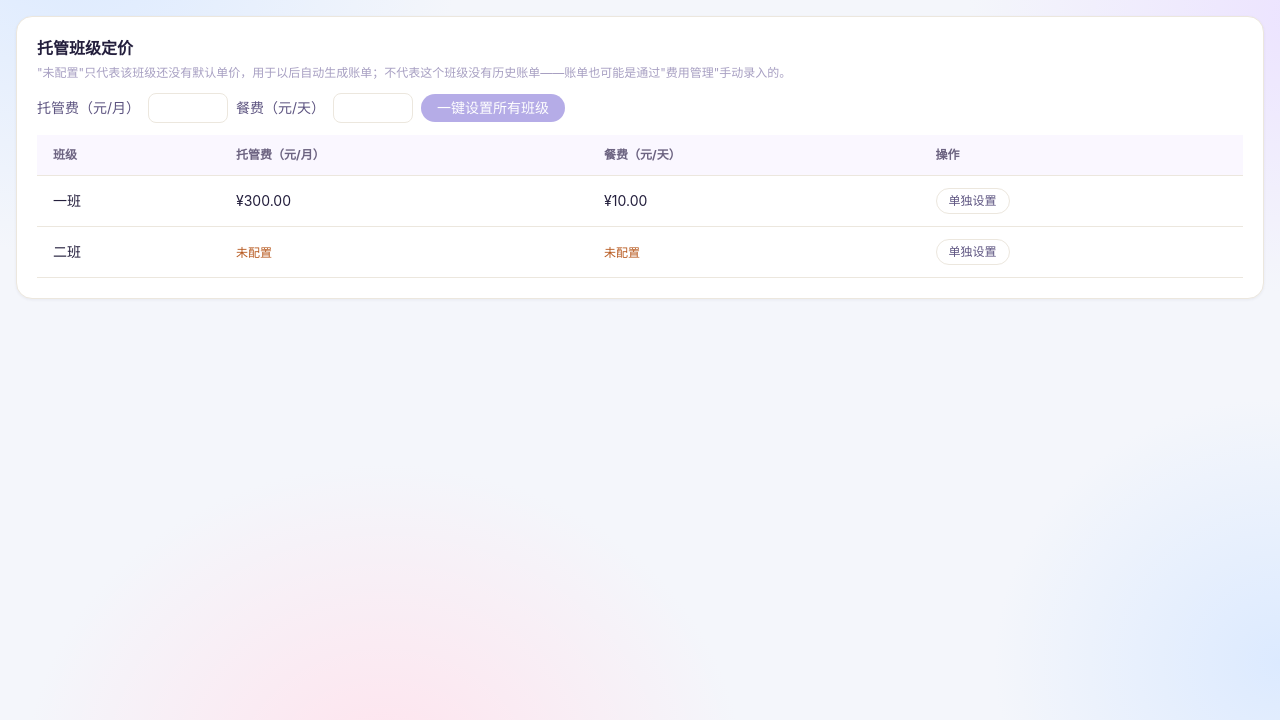
Test case: AdminPricingModule › edits the billing rate for a single class
Expected: the text "二班" is shown, [37,226,220,278]
Click the button "单独设置" in the row of "二班": (973,252) [936,239,1010,265]
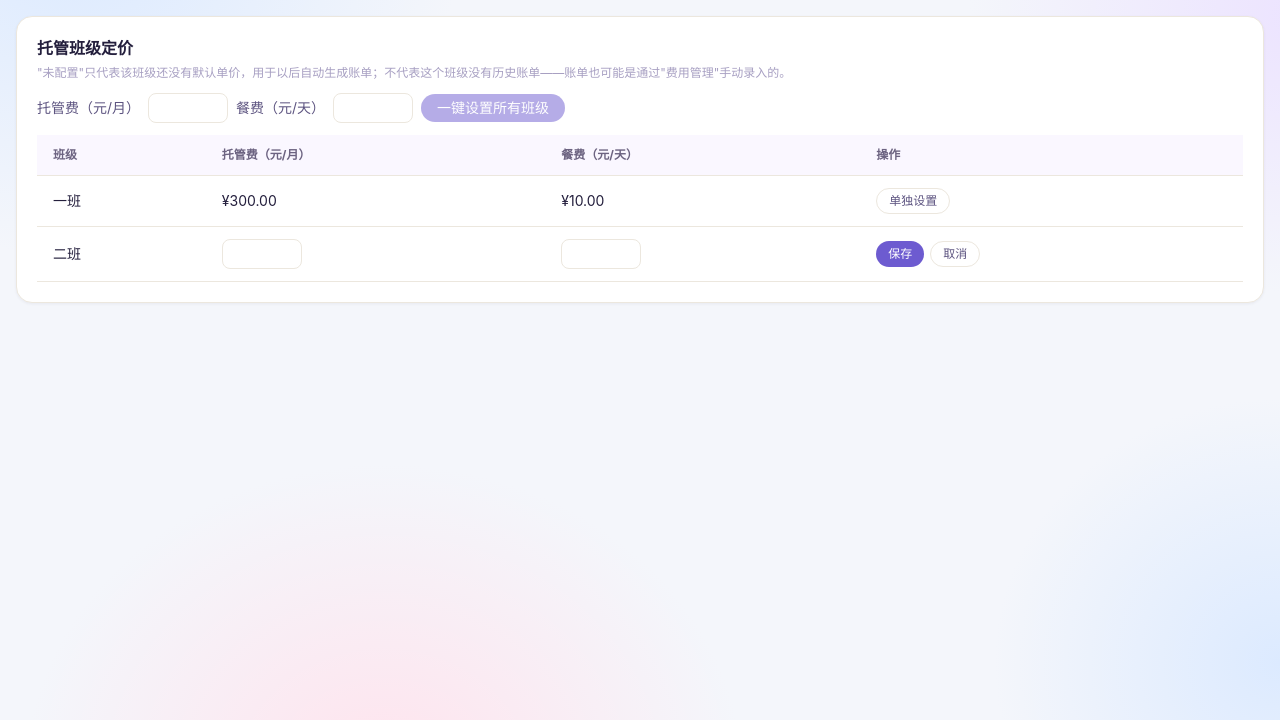
In the field named "二班托管费": (262,254) [222,239,302,269], type "250"
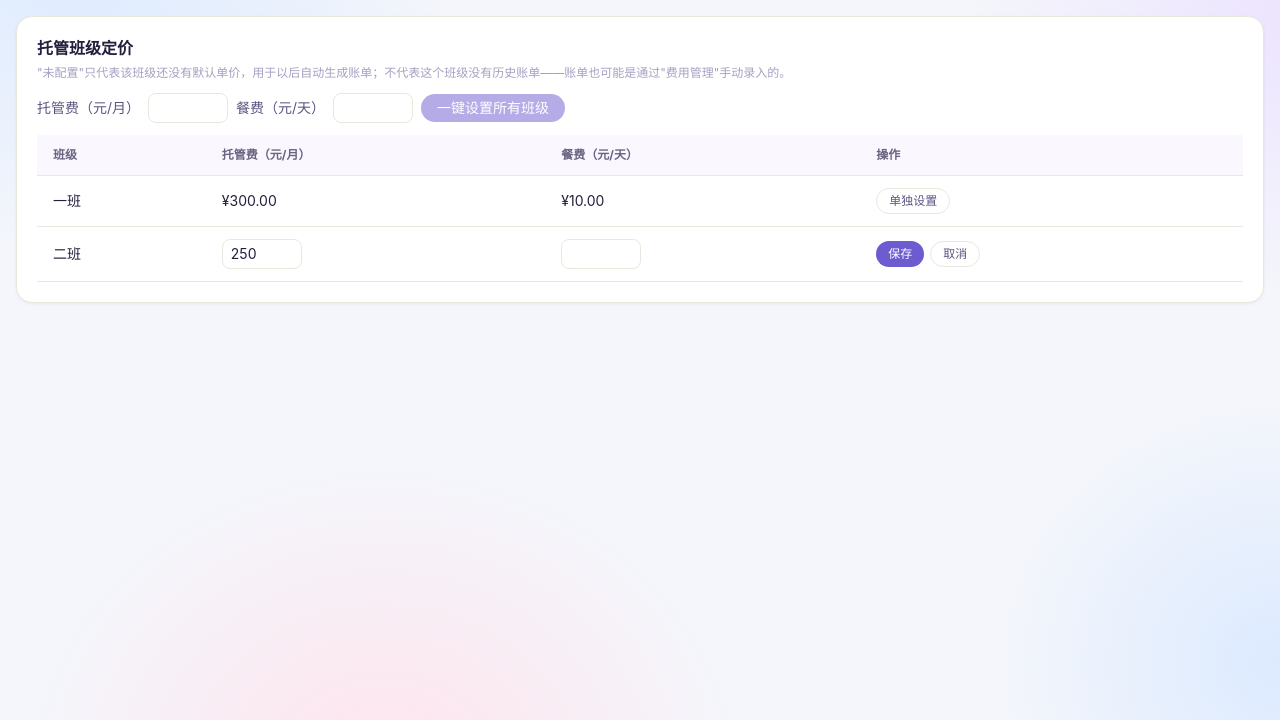
In the field named "二班餐费": (601,254) [561,239,641,269], type "8"
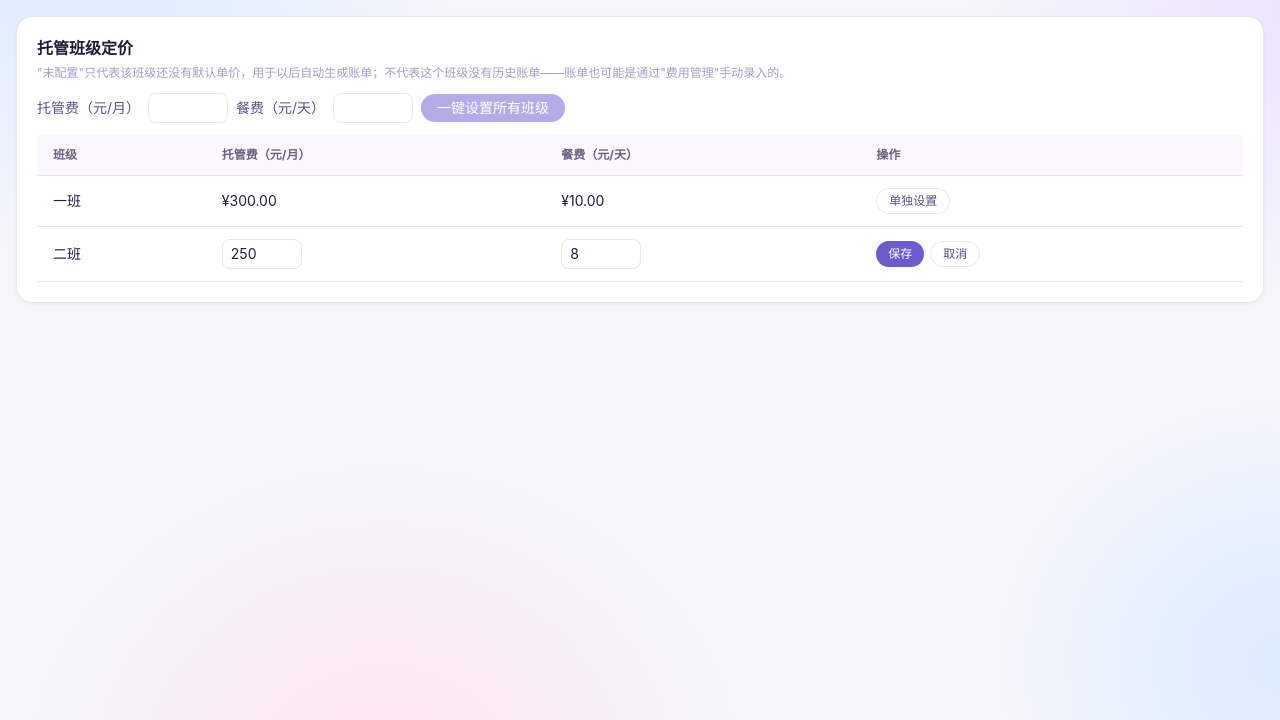
Click the button "保存": (900,254) [876,241,924,267]
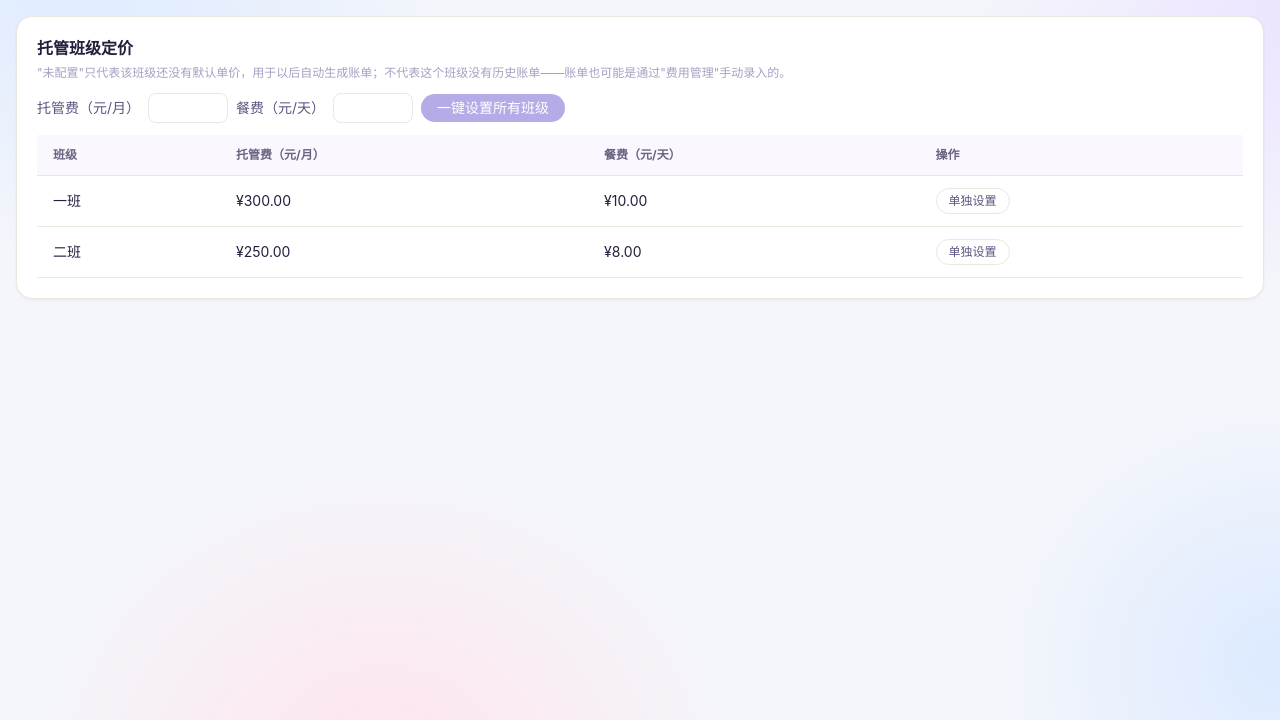
Result: the text "¥250.00" is shown at [220,226,588,278]
